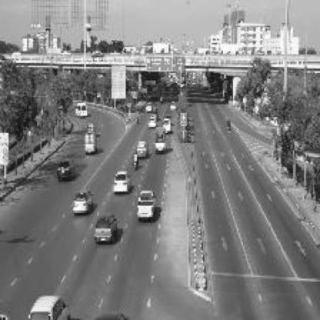other: (109, 165, 158, 222)
